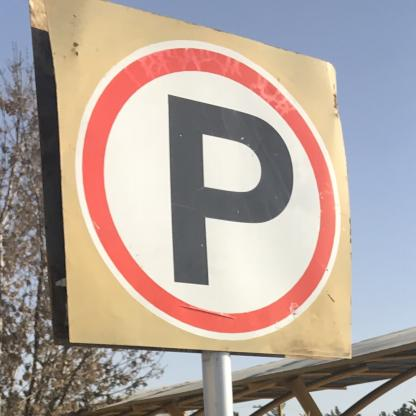Parking: (45, 0, 353, 360)
